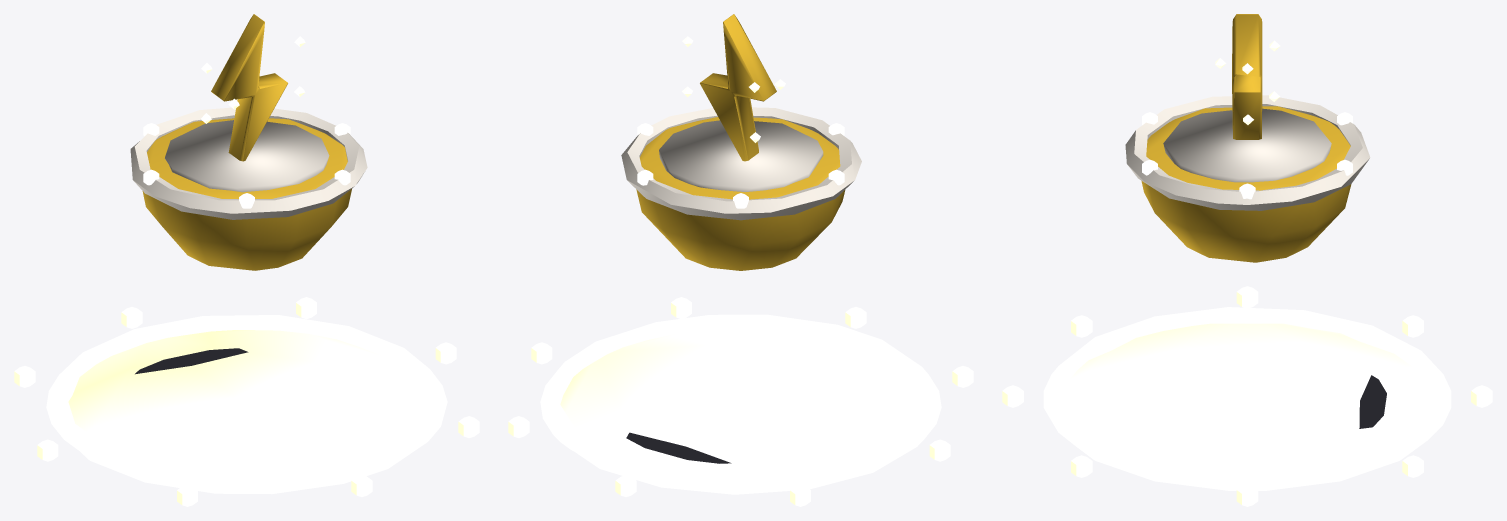
File: pu_boost.glb
3 views of the same model, side by side, from view 1: azimuth 30°, elevation 25°; view 2: azimuth 150°, elevation 25°; view 3: azimuth 270°, elevation 25° (orthographic).
Visible parts, largest first — view 1: pu_boost.002, capsule.008; view 2: pu_boost.002, capsule.008; view 3: pu_boost.002, capsule.008.
Part boxes in pixels (box(x1,y1,x2,y2)): pu_boost.002: box(14, 297, 479, 506); capsule.008: box(130, 14, 367, 270); pu_boost.002: box(508, 297, 973, 506); capsule.008: box(621, 14, 861, 270); pu_boost.002: box(1002, 286, 1492, 506); capsule.008: box(1125, 14, 1370, 262).
Size of the model in its own units: 1.56 by 1.41 by 1.57.
Materials: 1 (1 with a texture image).
